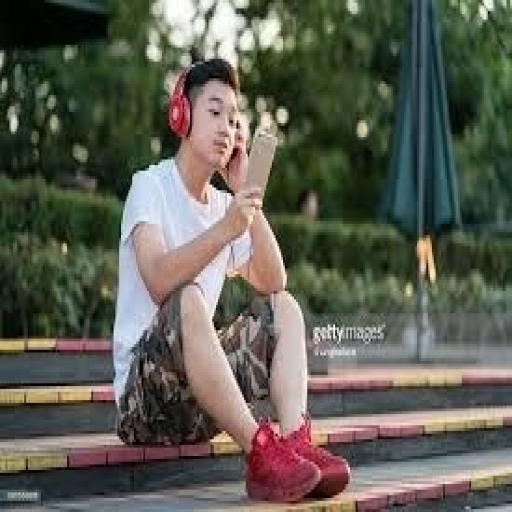listening_to_music: (110, 54, 354, 506)
